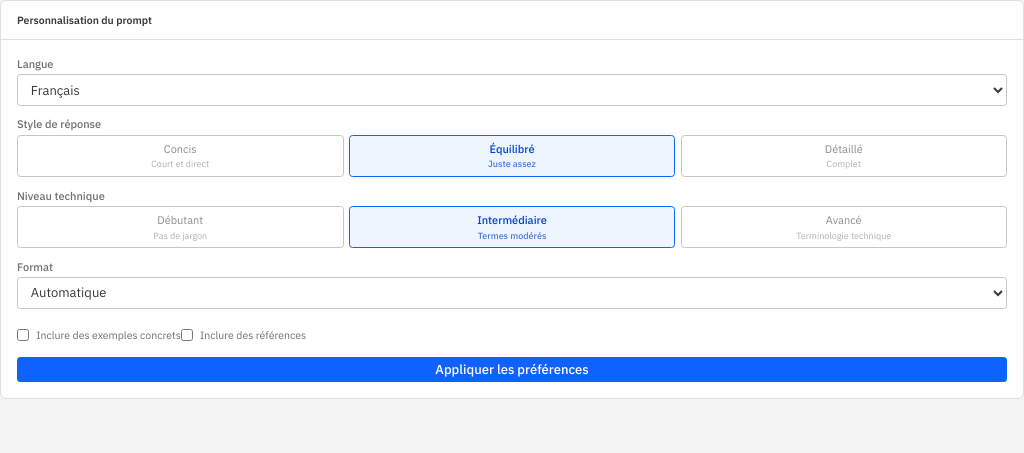
it: PromptCustomization › should show success message after save
Click the button "Appliquer les préférences": (512, 370) [17, 357, 1007, 382]
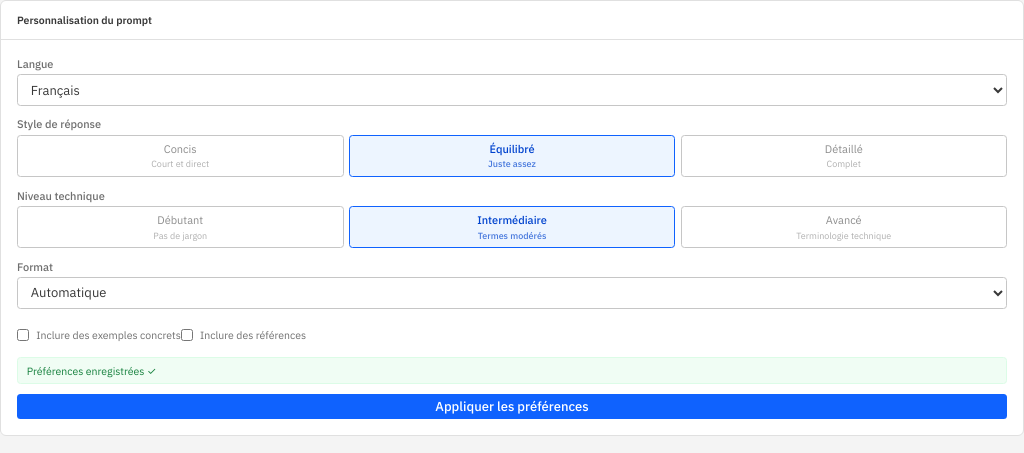
Expected: the text "enregistrées" is shown, [27, 364, 156, 378]
